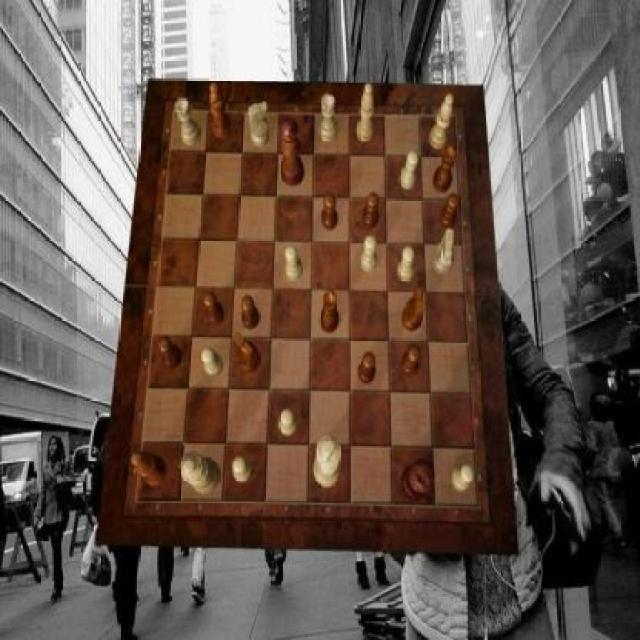bishop: (209, 82, 232, 139), (131, 451, 166, 487)
black-bishop: (402, 458, 436, 501)
black-king: (232, 332, 260, 374), (401, 288, 424, 332)
black-knight: (160, 337, 183, 371), (438, 194, 459, 230), (203, 291, 224, 325), (402, 344, 422, 378), (363, 192, 380, 230), (322, 192, 338, 230), (242, 295, 259, 330), (359, 352, 376, 385)
black-pawn: (280, 117, 306, 186)
black-queen: (434, 146, 458, 194), (320, 291, 340, 333)
black-rook: (429, 94, 454, 148), (357, 83, 375, 142)
white-bishop: (314, 436, 341, 490)
white-king: (432, 230, 455, 276), (249, 101, 269, 147)
white-knight: (400, 151, 420, 189), (201, 348, 224, 377), (360, 236, 378, 272), (451, 465, 474, 492), (398, 248, 416, 282), (285, 246, 302, 281), (278, 409, 298, 437), (234, 456, 254, 482)
white-pawn: (180, 451, 220, 493)
white-queen: (176, 99, 202, 146), (318, 94, 338, 141)
